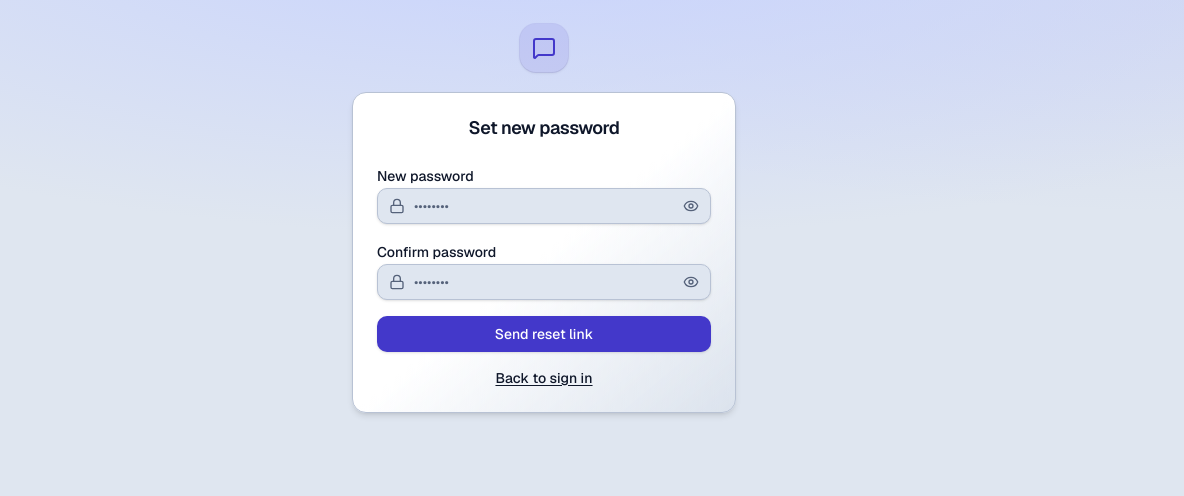
Test case: ResetPasswordPage — inner content › shows error on API failure
Type "newpassword123" into the password field labelled "New password". click: (544, 206)
box: [377,188,711,224]
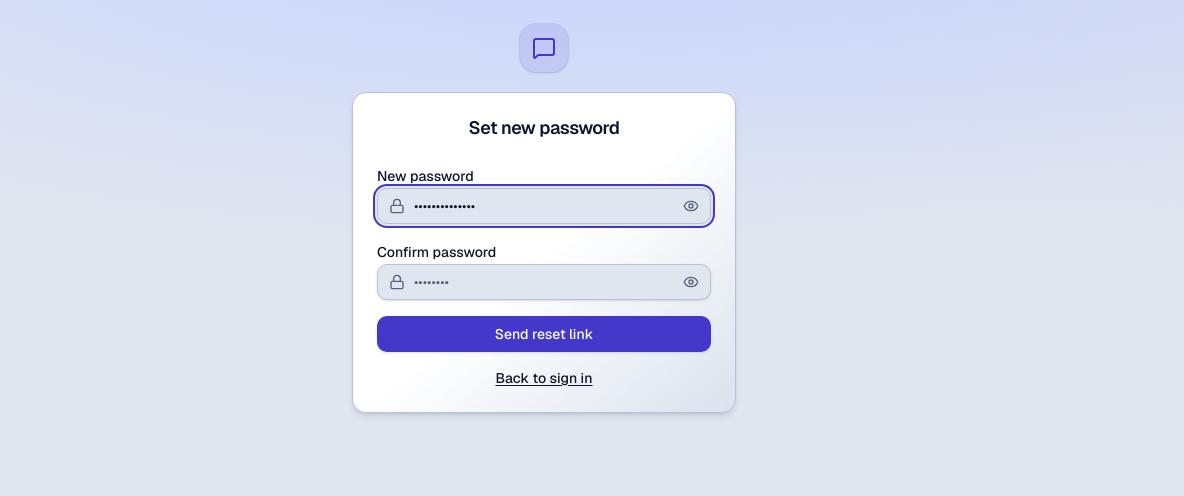
Type "newpassword123" into the password field labelled "Confirm password". click: (544, 282)
box: [377,264,711,300]
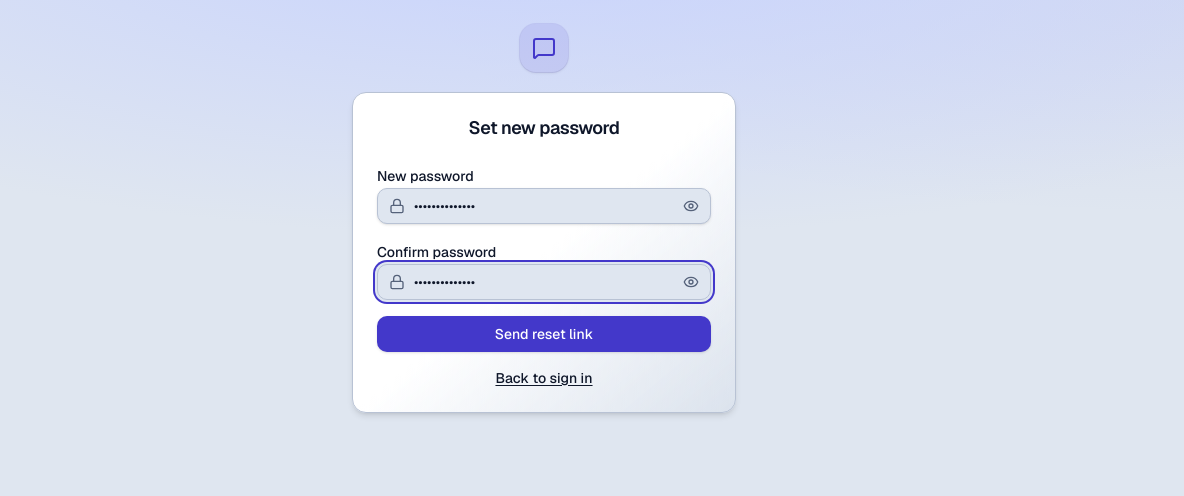
Click the button "Send reset link". click: (544, 334)
box: [377,316,711,352]
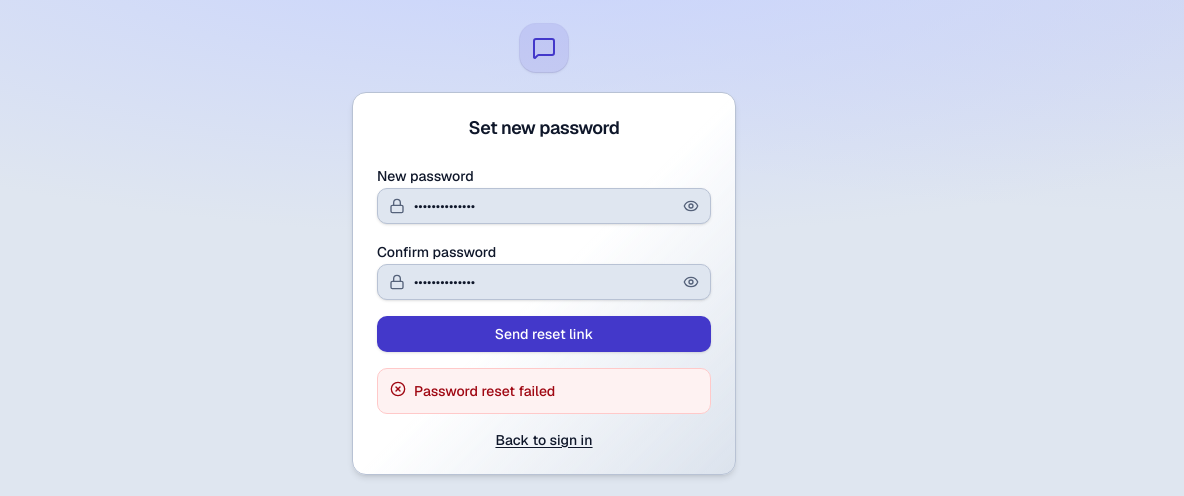
Check: the text "Password reset failed" is shown, box [414,382,555,400]
